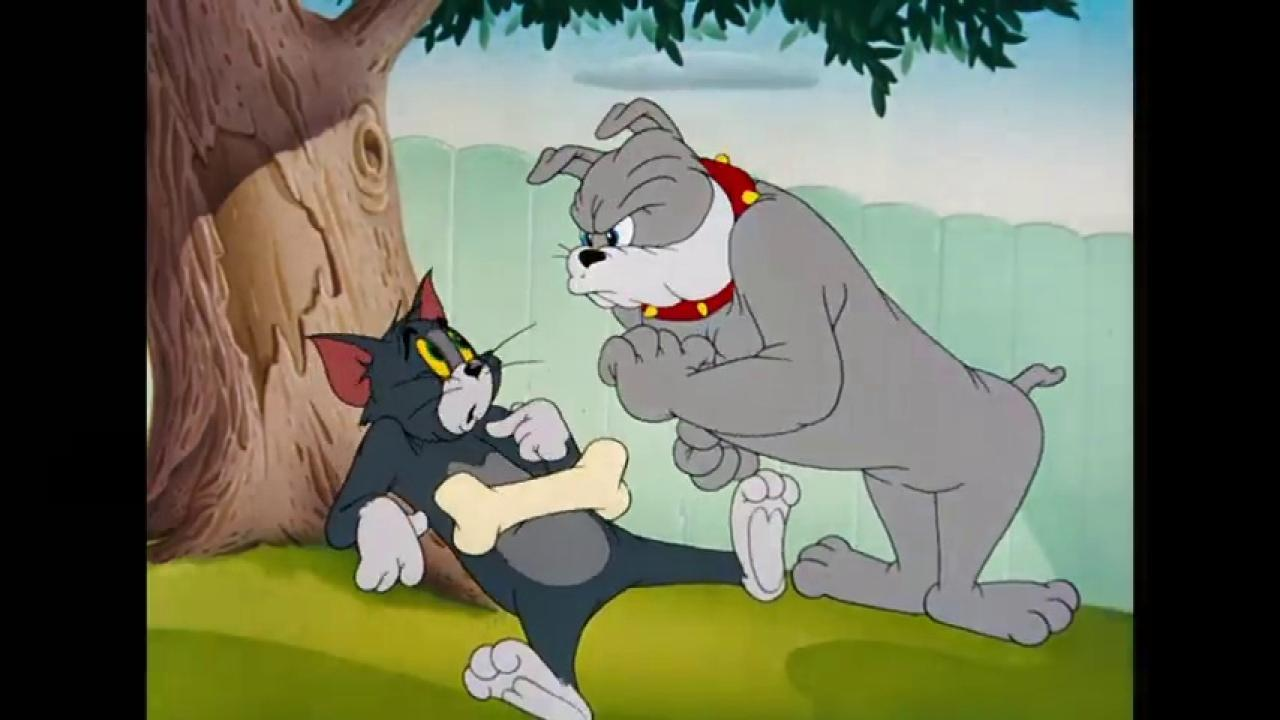Tom: (301, 262, 805, 720)
